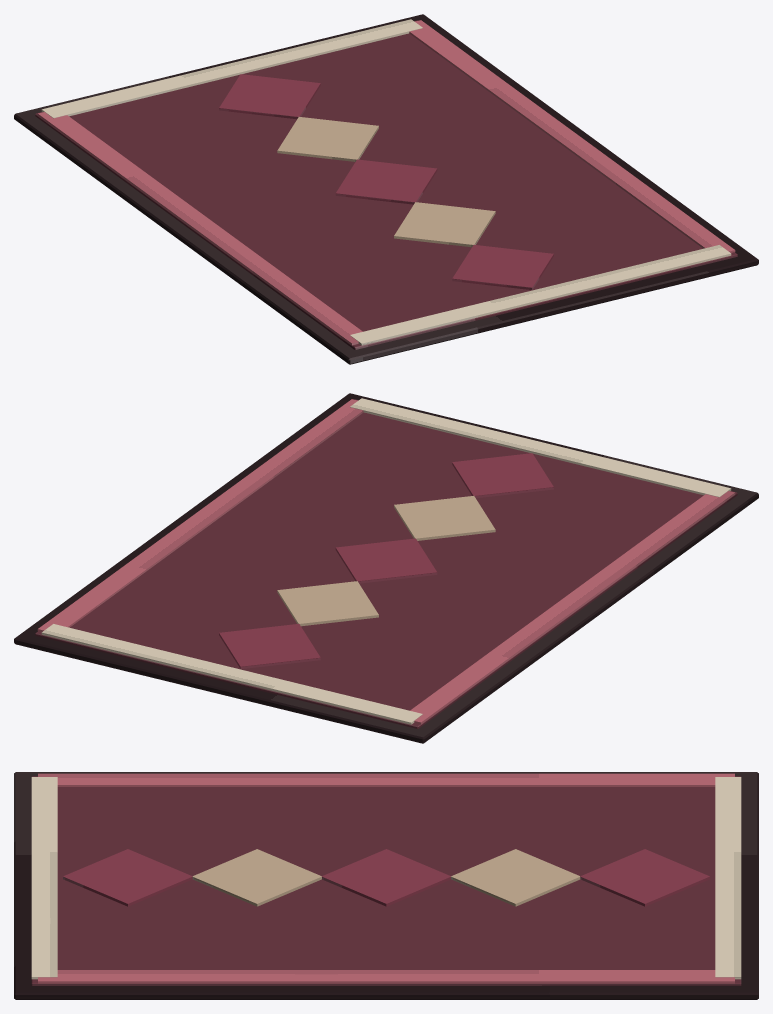
The model's file is corridor_carpet_burgundy.glb.
3 renders of one model, top to bottom at view 1: azimuth 30°, elevation 25°; view 2: azimuth 150°, elevation 25°; view 3: azimuth 270°, elevation 25°, orthographic. The views are drawn at different scales.
Visible parts, largest first — view 1: RunnerField, TextileBase, LongBorder_-1.06, LongBorder_1.06, EndBand_-1.56, EndBand_1.56, RunnerDiamond_0, RunnerDiamond_2, RunnerDiamond_3, RunnerDiamond_4, RunnerDiamond_1; view 2: RunnerField, TextileBase, LongBorder_-1.06, LongBorder_1.06, EndBand_1.56, EndBand_-1.56, RunnerDiamond_4, RunnerDiamond_2, RunnerDiamond_1, RunnerDiamond_0, RunnerDiamond_3; view 3: RunnerField, TextileBase, LongBorder_1.06, LongBorder_-1.06, EndBand_1.56, EndBand_-1.56, RunnerDiamond_0, RunnerDiamond_1, RunnerDiamond_4, RunnerDiamond_3, RunnerDiamond_2.
Part boxes in pixels (x1,y1,x2,y2): RunnerField: (35,20,737,349); TextileBase: (14,14,758,364); LongBorder_-1.06: (37,112,362,345); LongBorder_1.06: (409,20,735,252); EndBand_-1.56: (350,245,731,345); EndBand_1.56: (41,19,422,118); RunnerDiamond_0: (452,245,553,289); RunnerDiamond_2: (335,159,437,204); RunnerDiamond_3: (277,117,378,161); RunnerDiamond_4: (219,74,320,119); RunnerDiamond_1: (394,202,495,247); RunnerField: (35,399,737,728); TextileBase: (14,393,758,743); LongBorder_-1.06: (410,491,735,724); LongBorder_1.06: (37,399,363,631); EndBand_1.56: (41,624,422,724); EndBand_-1.56: (350,398,731,497); RunnerDiamond_4: (219,624,320,668); RunnerDiamond_2: (335,538,437,583); RunnerDiamond_1: (394,496,495,540); RunnerDiamond_0: (452,453,553,498); RunnerDiamond_3: (277,581,378,626); RunnerField: (31,776,741,985); TextileBase: (14,772,758,999); LongBorder_1.06: (38,970,734,983); LongBorder_-1.06: (38,773,734,786); EndBand_1.56: (715,777,741,979); EndBand_-1.56: (31,777,57,979); RunnerDiamond_0: (63,849,192,906); RunnerDiamond_1: (192,849,321,906); RunnerDiamond_4: (580,849,709,906); RunnerDiamond_3: (451,849,580,906); RunnerDiamond_2: (322,849,450,906).
Bounding box in the file's own units: 2.4 × 0.066 × 3.4.
1 material, 1 textured.
